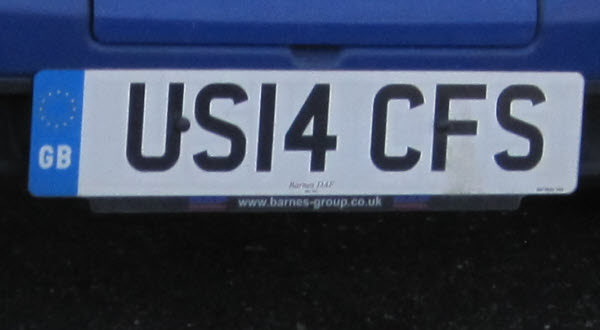license_plate: (27, 71, 584, 199)
